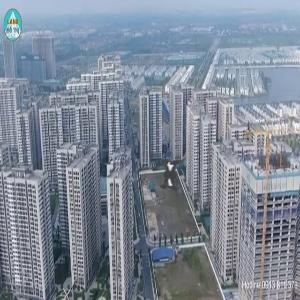drone: (131, 138, 210, 217)
